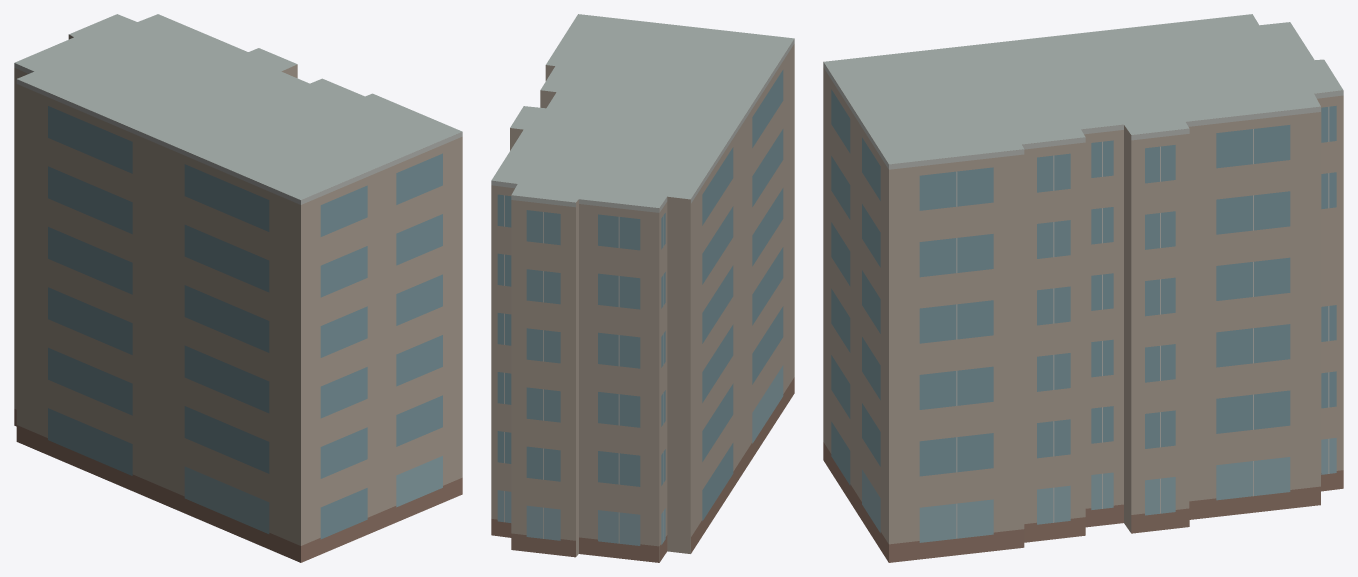
File: survey-upis-32656447.glb
The picture shows the model from 3 angles, left to right: view 1: azimuth 30°, elevation 25°; view 2: azimuth 150°, elevation 25°; view 3: azimuth 270°, elevation 25°; orthographic projection. The views are drawn at different scales.
Visible parts, largest first — view 1: survey-upis-32656447.tmp; view 2: survey-upis-32656447.tmp; view 3: survey-upis-32656447.tmp.
Part boxes in pixels (x1,y1,x2,y2): survey-upis-32656447.tmp: (14,14,462,562); survey-upis-32656447.tmp: (491,14,794,562); survey-upis-32656447.tmp: (823,14,1343,562).
Size of the model in its own units: 14.83 by 18.3 by 21.66.
